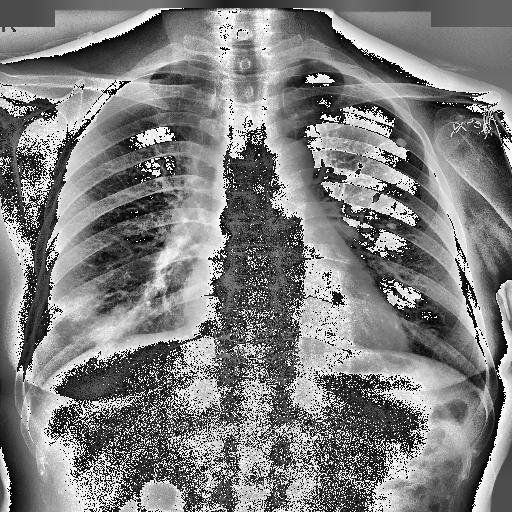2- Calcification: (395, 138, 408, 148)
4- Consolidation: (25, 286, 136, 389), (49, 295, 145, 347)
7- Lung Opacity: (25, 286, 136, 389), (52, 292, 100, 321), (90, 313, 132, 343)
8- Nodule-Mass: (394, 136, 406, 148), (397, 137, 406, 148)
9- Other lesion: (450, 100, 502, 146), (397, 137, 406, 148)
